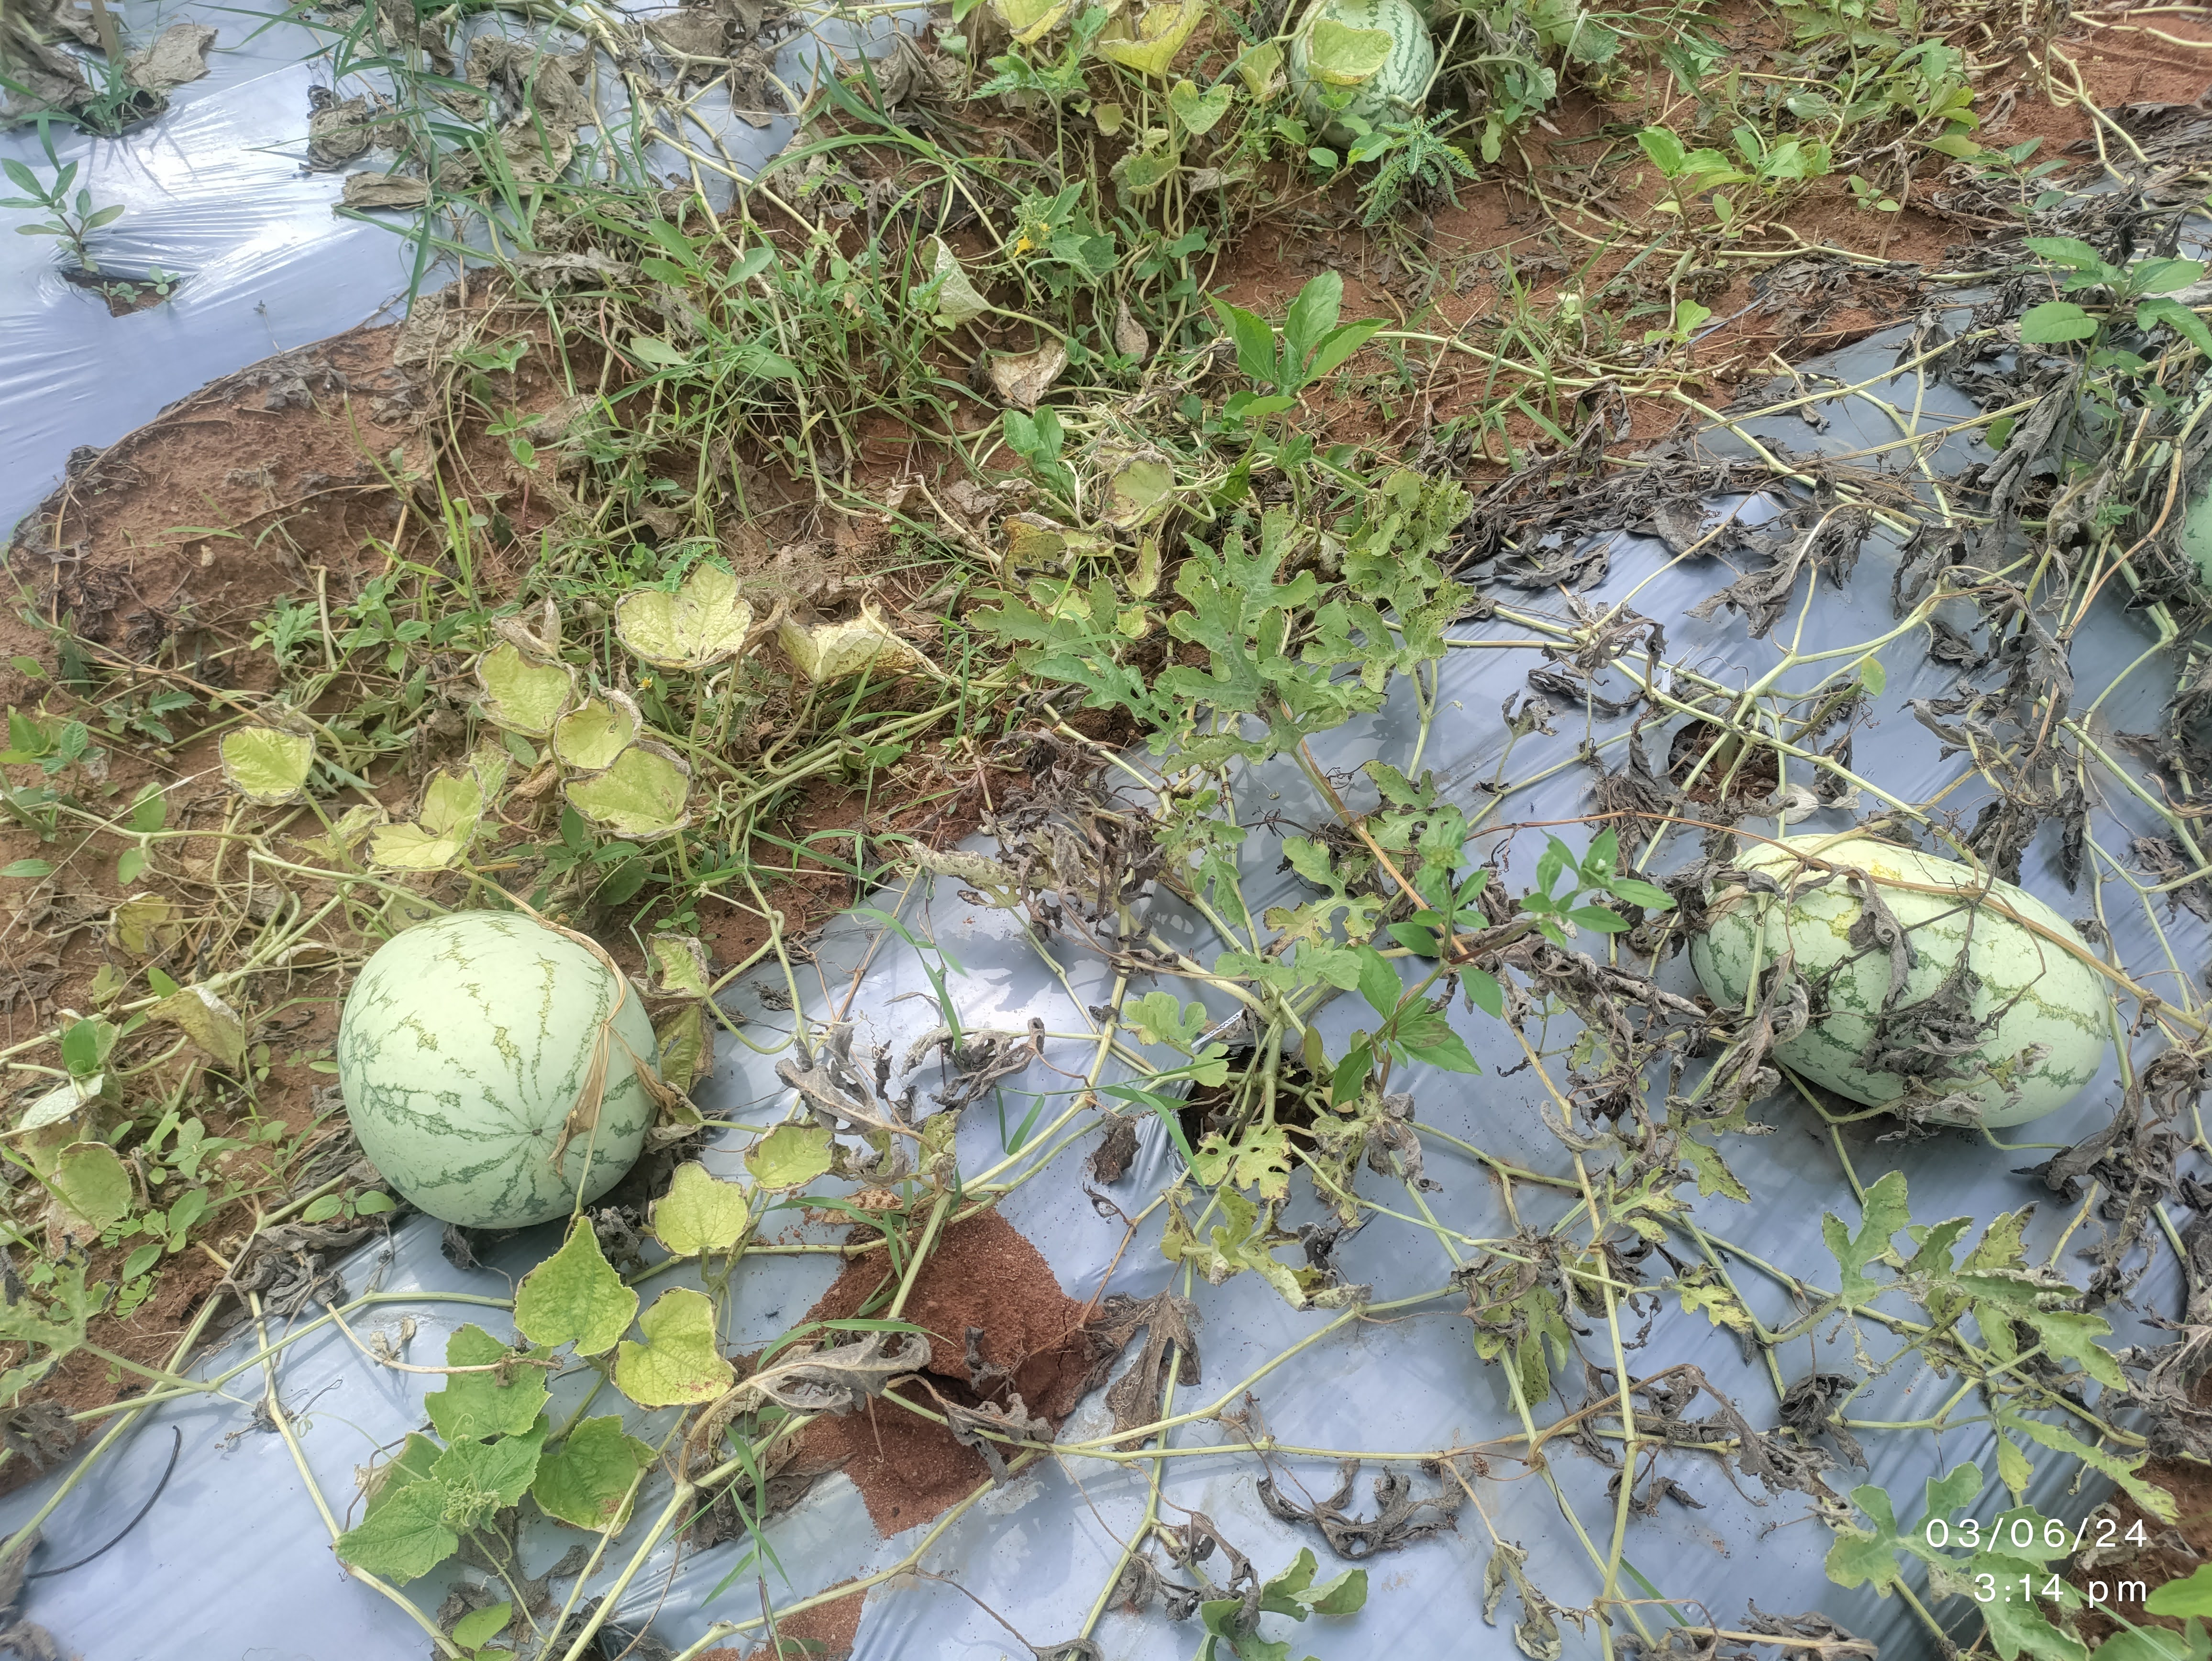good-to-harvest: (1690, 783, 2142, 1148), (290, 867, 707, 1237)
not-good-to-harvest: (1256, 0, 1472, 113)
